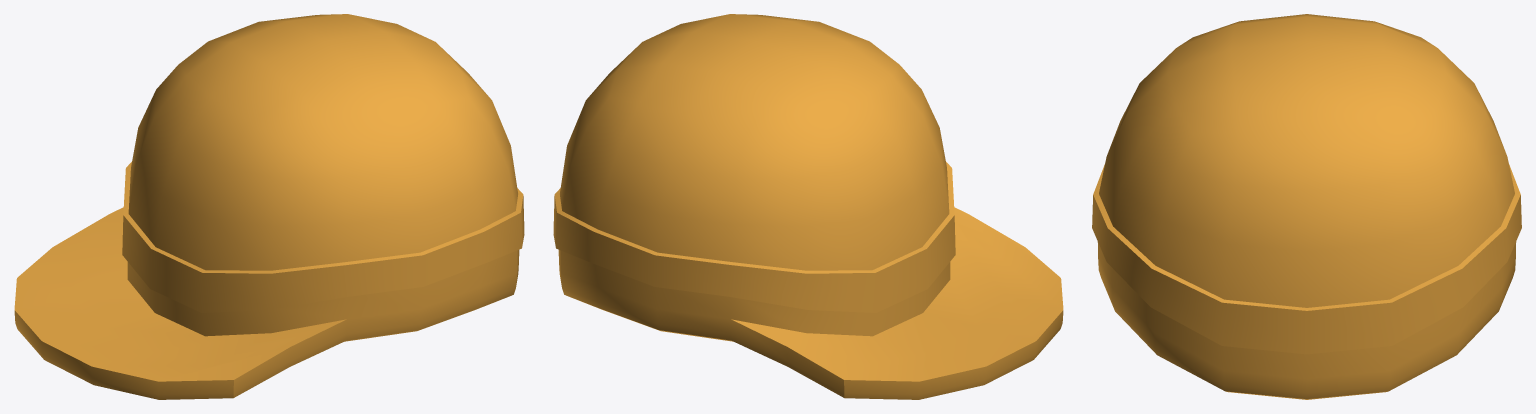
Rendered from helmet.fbx.
The picture shows the model from 3 angles, left to right: view 1: azimuth 30°, elevation 25°; view 2: azimuth 150°, elevation 25°; view 3: azimuth 270°, elevation 25°; orthographic projection. The views are drawn at different scales.
Parts seen in each view (by area): view 1: helmet; view 2: helmet; view 3: helmet.
Part boxes in pixels (box(x1,y1,x2,y2)): helmet: box(14, 14, 524, 399); helmet: box(553, 14, 1063, 399); helmet: box(1092, 14, 1521, 399).
Size of the model in its own units: 204 by 109 by 155.
